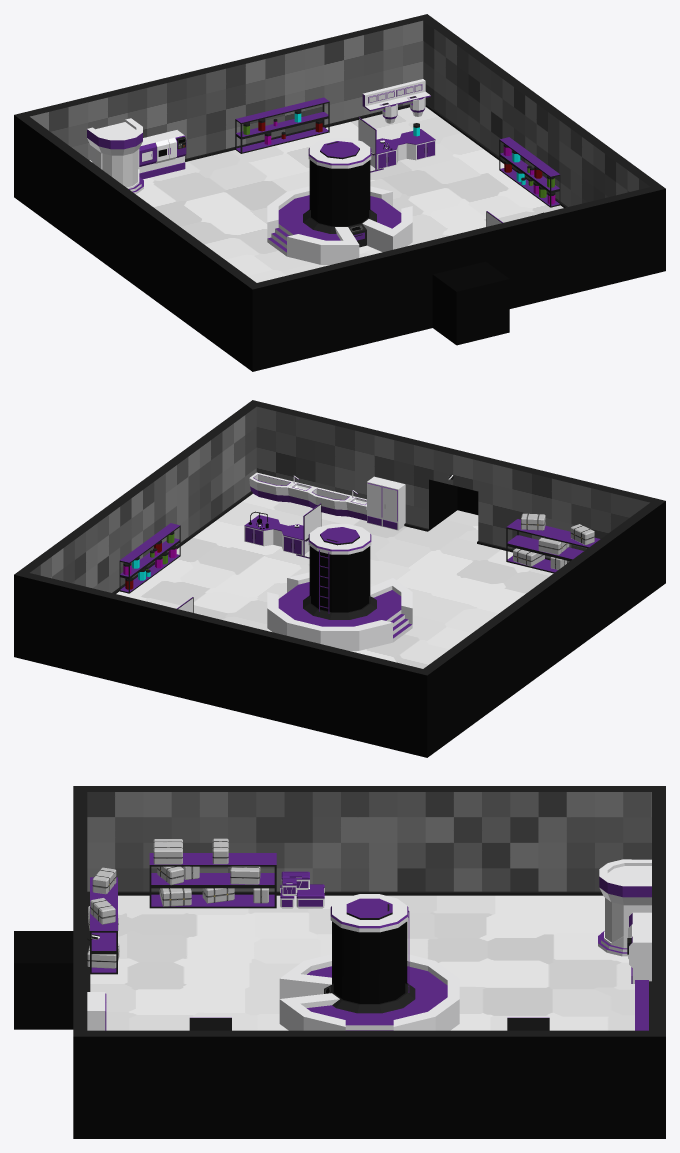
The model's file is Laboratory_1x1x1.fbx.
3 renders of one model, top to bottom at view 1: azimuth 30°, elevation 25°; view 2: azimuth 150°, elevation 25°; view 3: azimuth 270°, elevation 25°, orthographic. The views are drawn at different scales.
Parts seen in each view (by area): view 1: Laboratory_1x1x1; view 2: Laboratory_1x1x1; view 3: Laboratory_1x1x1.
Boxes of the visible parts, <box> form: Laboratory_1x1x1: <box>14,14,665,371</box>; Laboratory_1x1x1: <box>14,400,665,757</box>; Laboratory_1x1x1: <box>14,786,665,1138</box>.
Bounding box in the file's own units: 42 × 46.2 × 8.29.
